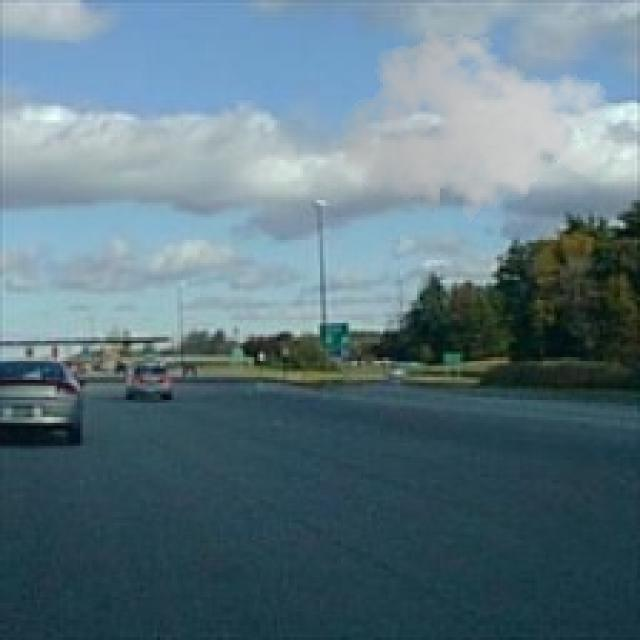Smoke: (337, 22, 612, 232)
